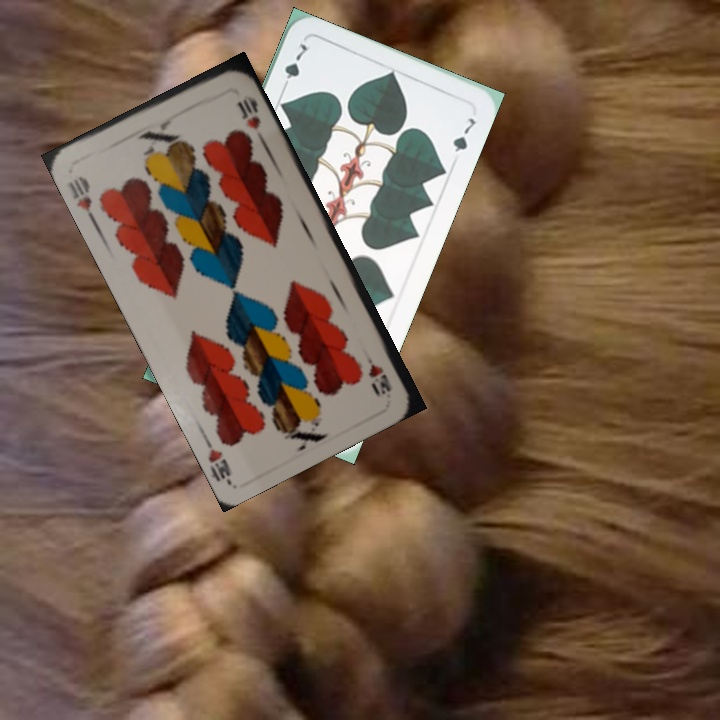G7: (277, 39, 310, 94)
H10: (357, 344, 395, 396), (64, 172, 98, 224)
